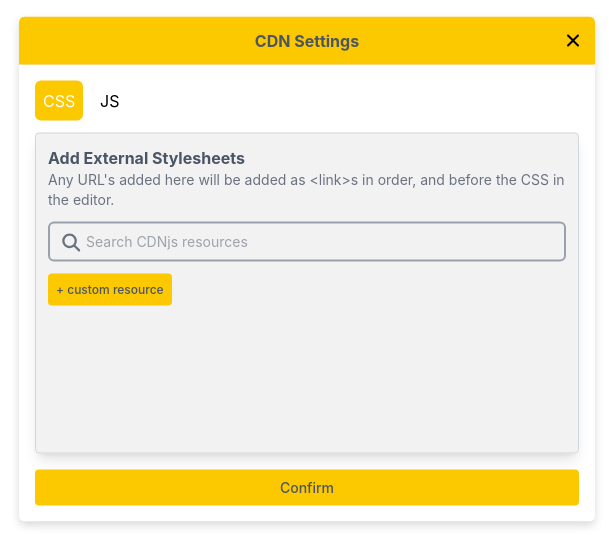
Scenario: AppHeader/SettingPopup component › change setting tab
Click the list item "JS".
click(110, 100)  # box [100,90,119,110]
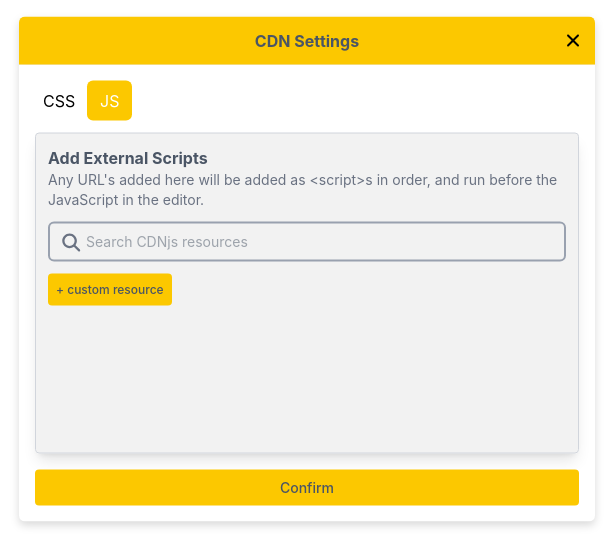
Now the heading "Add External Scripts" is shown, box [48,148,208,168]
Now the text "any url's added here will be added as <script>s in order, and run before the javascript in the editor." is shown, box [48,170,557,208]
